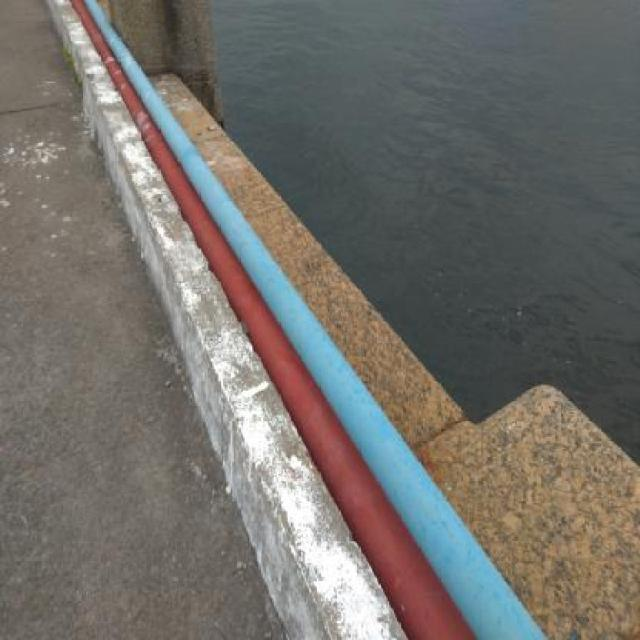gas: (85, 0, 546, 640), (70, 0, 476, 640)
